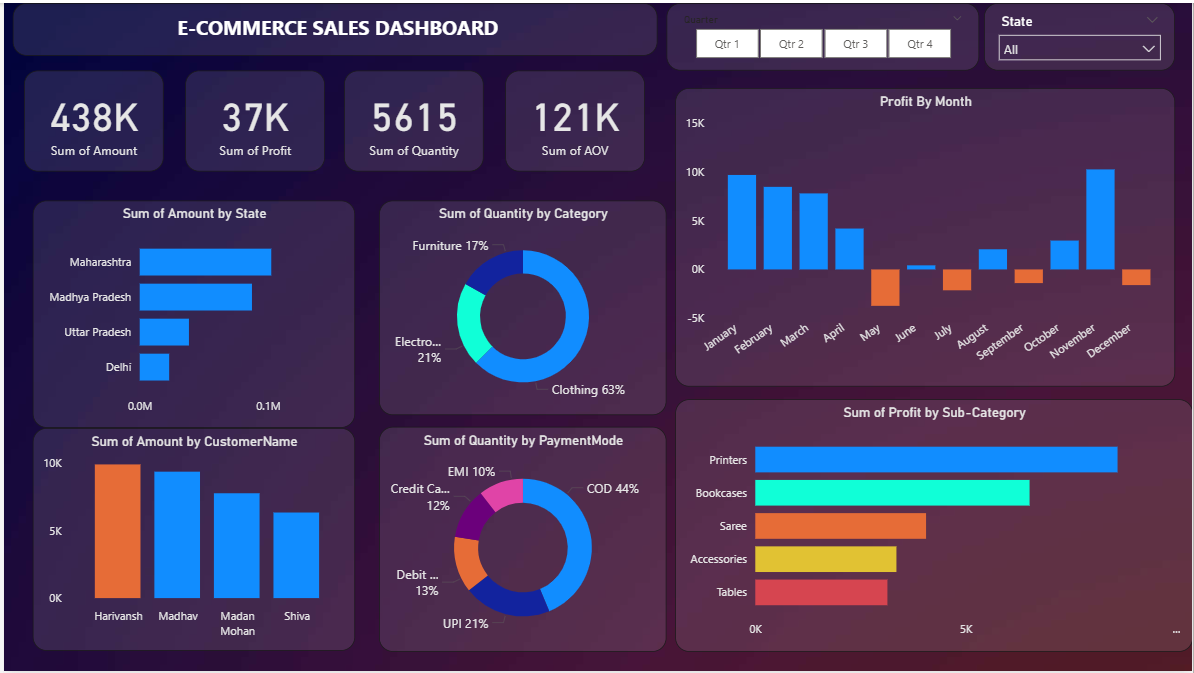

The dashboard page shown, as its layout file describes it:
{"tool":"powerbi","page":{"name":"Page 1","canvas":[1280,720],"ordinal":0},"visuals":[{"type":"textbox","box":[9.4,0,694.7,56.5],"z":0},{"type":"columnChart","title":"Profit By Month","fields":{"Category":["Orders.Order Date.Variation.Date Hierarchy.Month"],"Y":["Details.Profit"]},"box":[722.9,91.5,538.5,321.8],"z":1000},{"type":"barChart","fields":{"Category":["Details.Sub-Category"],"Y":["Details.Profit"]},"box":[722.9,426.8,557.3,271.9],"z":2000},{"type":"donutChart","fields":{"Category":["Details.Category"],"Y":["Details.Quantity"]},"box":[403.9,212.7,309.6,231.6],"z":3000},{"type":"donutChart","fields":{"Y":["Details.Quantity"],"Category":["Details.PaymentMode"]},"box":[403.9,456.4,309.6,242.3],"z":4000},{"type":"card","fields":{"Values":["Details.Amount"]},"box":[21.5,72.7,150.8,109],"z":5000},{"type":"card","fields":{"Values":["Details.Quantity"]},"box":[366.2,72.7,150.8,109],"z":6000},{"type":"card","fields":{"Values":["Details.Profit"]},"box":[195.2,72.7,150.8,109],"z":7000},{"type":"card","fields":{"Values":["Details.AOV"]},"box":[539.8,72.7,150.8,109],"z":8000},{"type":"barChart","fields":{"Category":["Orders.State"],"Y":["Details.Amount"]},"box":[31,212.7,347.3,245],"z":9000},{"type":"columnChart","fields":{"Category":["Orders.CustomerName"],"Y":["Details.Amount"]},"box":[31,458,347,240],"z":10000},{"type":"slicer","fields":{"Values":["Orders.Order Date.Variation.Date Hierarchy.Quarter"]},"box":[713.5,0,336.6,72.7],"z":11000},{"type":"slicer","fields":{"Values":["Orders.State"]},"box":[1055.5,0,206,72.7],"z":12000}]}

Visuals, with their boxes in screenshot pixels (x1, y1, x2, y2), scaled from the page's 1280x720 canvas onto the 1194x673 screenshot:
textbox: bbox(9, 0, 657, 53)
"Profit By Month" columnChart: bbox(674, 86, 1177, 386)
barChart - Details.Sub-Category x Details.Profit: bbox(674, 399, 1193, 653)
donutChart - Details.Category x Details.Quantity: bbox(377, 199, 666, 415)
donutChart - Details.Quantity x Details.PaymentMode: bbox(377, 427, 666, 653)
card - Details.Amount: bbox(20, 68, 161, 170)
card - Details.Quantity: bbox(342, 68, 482, 170)
card - Details.Profit: bbox(182, 68, 323, 170)
card - Details.AOV: bbox(504, 68, 644, 170)
barChart - Orders.State x Details.Amount: bbox(29, 199, 353, 428)
columnChart - Orders.CustomerName x Details.Amount: bbox(29, 428, 353, 652)
slicer - Orders.Order Date.Variation.Date Hierarchy.Quarter: bbox(666, 0, 980, 68)
slicer - Orders.State: bbox(985, 0, 1177, 68)
